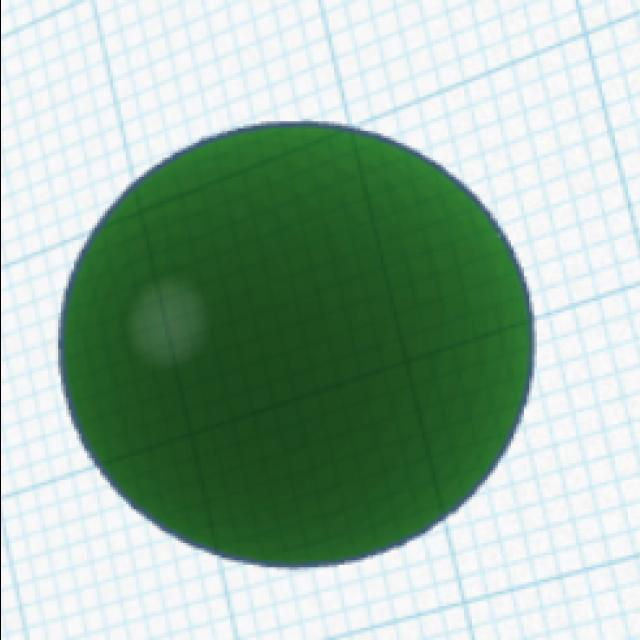sphere: (52, 117, 538, 572)
